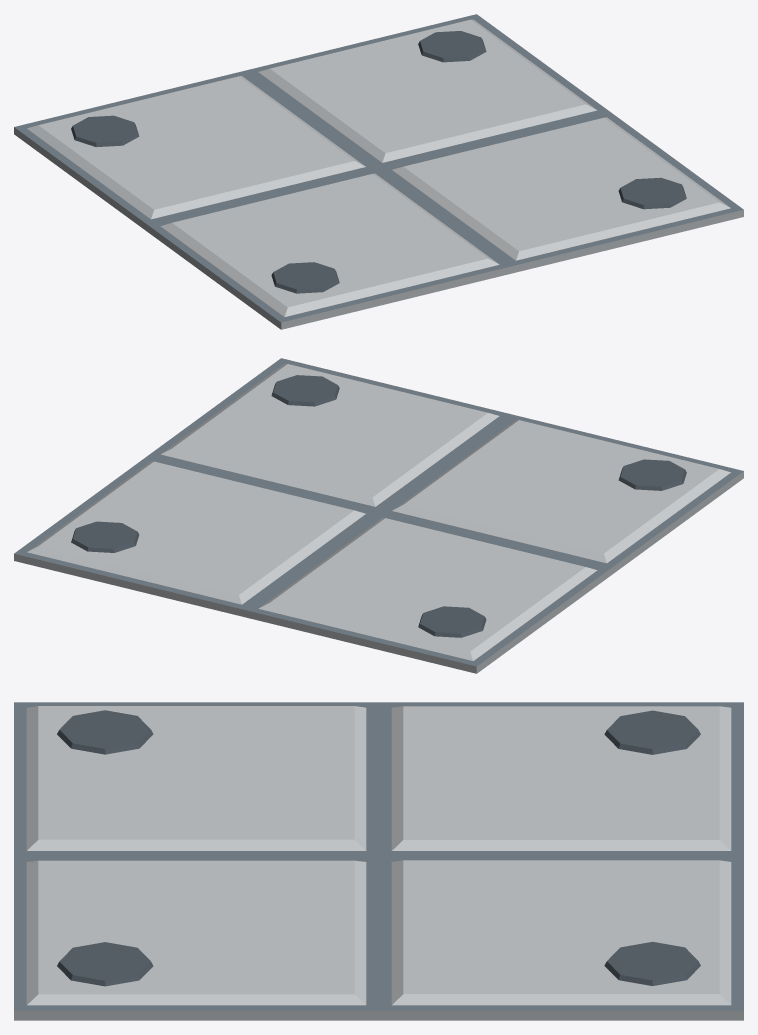
Rendered from precast-paving-tile-967791.glb.
3 renders of one model, top to bottom at view 1: azimuth 30°, elevation 25°; view 2: azimuth 150°, elevation 25°; view 3: azimuth 270°, elevation 25°, orthographic. The views are drawn at different scales.
Visible parts, largest first — view 1: paving-slab; view 2: paving-slab; view 3: paving-slab.
Part boxes in pixels (bbox=[...]): paving-slab: bbox=[14, 14, 743, 329]; paving-slab: bbox=[14, 358, 743, 673]; paving-slab: bbox=[14, 702, 743, 1020].
Size of the model in its own units: 2 by 0.064 by 2.
